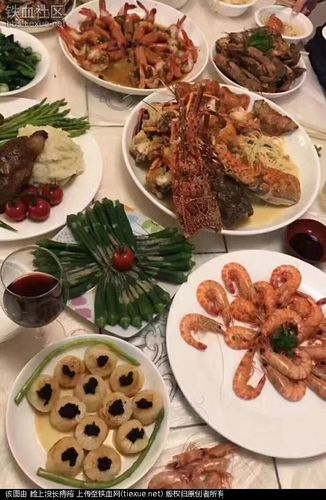food: (124, 74, 316, 215), (163, 245, 325, 385), (62, 0, 211, 93), (0, 106, 98, 232), (209, 19, 307, 93), (0, 22, 50, 95)
